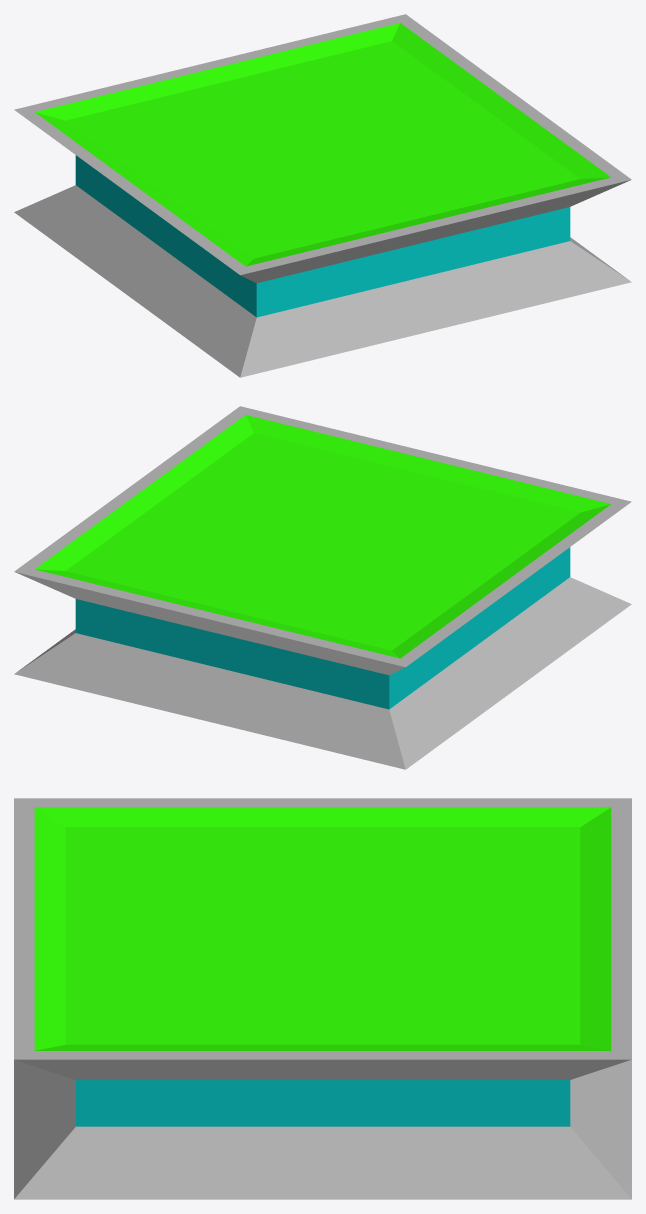
File: BouncyPlatform.fbx
The picture shows the model from 3 angles, top to bottom: view 1: azimuth 30°, elevation 25°; view 2: azimuth 150°, elevation 25°; view 3: azimuth 270°, elevation 25°; orthographic projection. The views are drawn at different scales.
Parts seen in each view (by area): view 1: Cube; view 2: Cube; view 3: Cube.
Boxes of the visible parts, x1,y1,x2,y2 form: Cube: (14, 14, 631, 377); Cube: (14, 406, 631, 769); Cube: (14, 798, 631, 1199).
Size of the model in its own units: 200 by 50 by 200.
